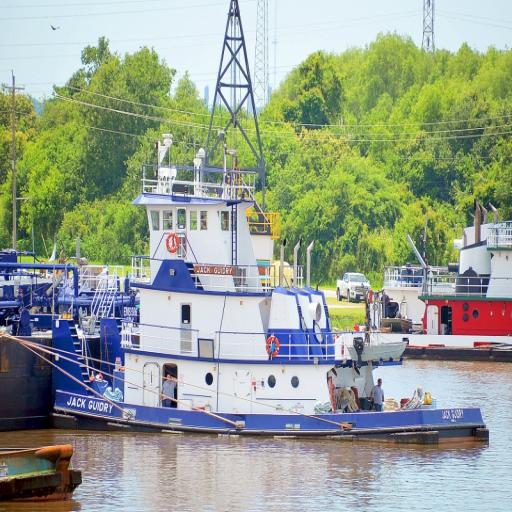tugboat: (47, 129, 493, 460)
